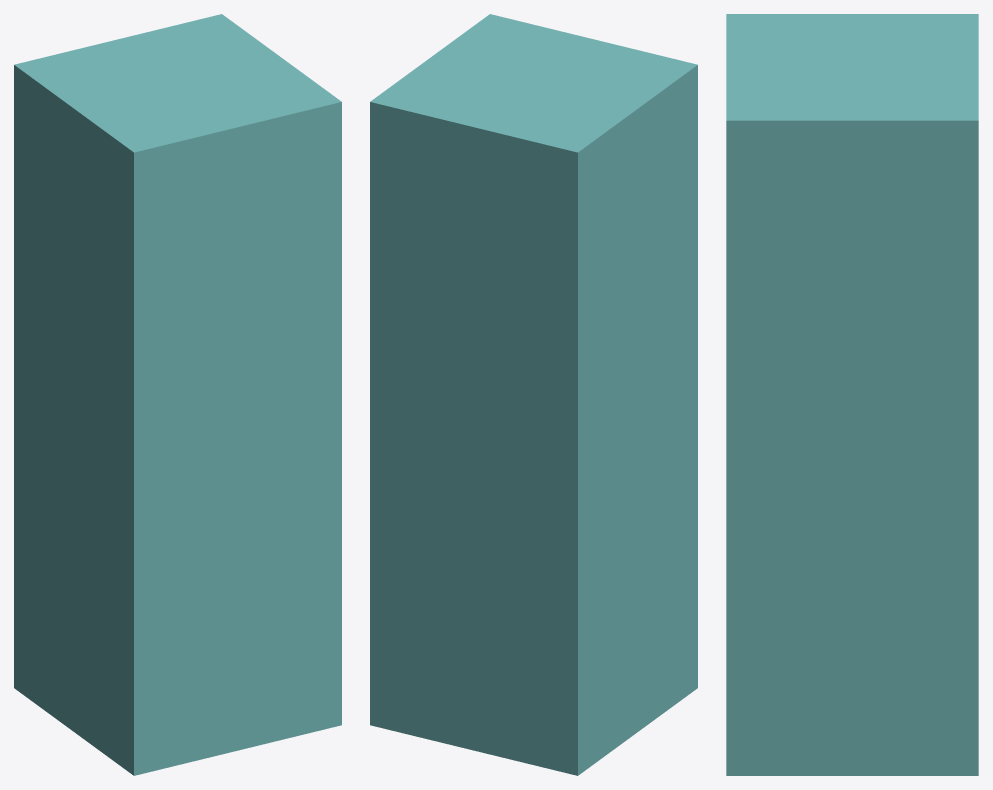
The model's file is induck-v3.glb.
The picture shows the model from 3 angles, left to right: view 1: azimuth 30°, elevation 25°; view 2: azimuth 150°, elevation 25°; view 3: azimuth 270°, elevation 25°; orthographic projection. The views are drawn at different scales.
Parts seen in each view (by area): view 1: qa_body_15, qa_body_0, qa_body_1, qa_body_2, qa_body_3, qa_body_6, qa_body_8, qa_body_9, qa_body_10, qa_body_11, qa_body_13, qa_body_4 (+4 smaller); view 2: qa_body_15, qa_body_0, qa_body_1, qa_body_2, qa_body_3, qa_body_6, qa_body_8, qa_body_9, qa_body_10, qa_body_11, qa_body_13, qa_body_4 (+4 smaller); view 3: qa_body_15, qa_body_5, qa_body_6, qa_body_7, qa_body_8, qa_body_9, qa_body_10, qa_body_11, qa_body_12, qa_body_13, qa_body_14, qa_body_0 (+4 smaller).
Part boxes in pixels (x1,y1,x2,y2): qa_body_15: [14, 14, 341, 191]; qa_body_0: [14, 649, 341, 775]; qa_body_1: [14, 610, 341, 736]; qa_body_2: [14, 571, 341, 697]; qa_body_3: [14, 532, 341, 658]; qa_body_6: [14, 415, 341, 541]; qa_body_8: [14, 337, 341, 464]; qa_body_9: [14, 299, 341, 425]; qa_body_10: [14, 260, 341, 386]; qa_body_11: [14, 221, 341, 347]; qa_body_13: [14, 143, 341, 269]; qa_body_4: [14, 493, 341, 619]; qa_body_15: [370, 14, 697, 191]; qa_body_0: [370, 649, 697, 775]; qa_body_1: [370, 610, 697, 736]; qa_body_2: [370, 571, 697, 697]; qa_body_3: [370, 532, 697, 658]; qa_body_6: [370, 415, 697, 541]; qa_body_8: [370, 337, 697, 464]; qa_body_9: [370, 299, 697, 425]; qa_body_10: [370, 260, 697, 386]; qa_body_11: [370, 221, 697, 347]; qa_body_13: [370, 143, 697, 269]; qa_body_4: [370, 493, 697, 619]; qa_body_15: [726, 14, 978, 161]; qa_body_5: [726, 530, 978, 571]; qa_body_6: [726, 489, 978, 530]; qa_body_7: [726, 448, 978, 489]; qa_body_8: [726, 407, 978, 448]; qa_body_9: [726, 366, 978, 407]; qa_body_10: [726, 325, 978, 366]; qa_body_11: [726, 284, 978, 325]; qa_body_12: [726, 243, 978, 284]; qa_body_13: [726, 202, 978, 243]; qa_body_14: [726, 161, 978, 202]; qa_body_0: [726, 735, 978, 775].
Bounding box in the file's own units: 1 × 2.87 × 1.
